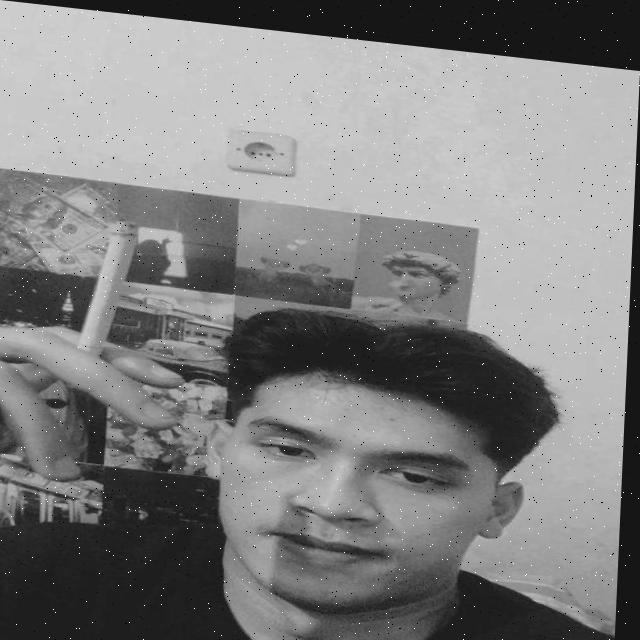cigarette: (82, 212, 139, 355)
